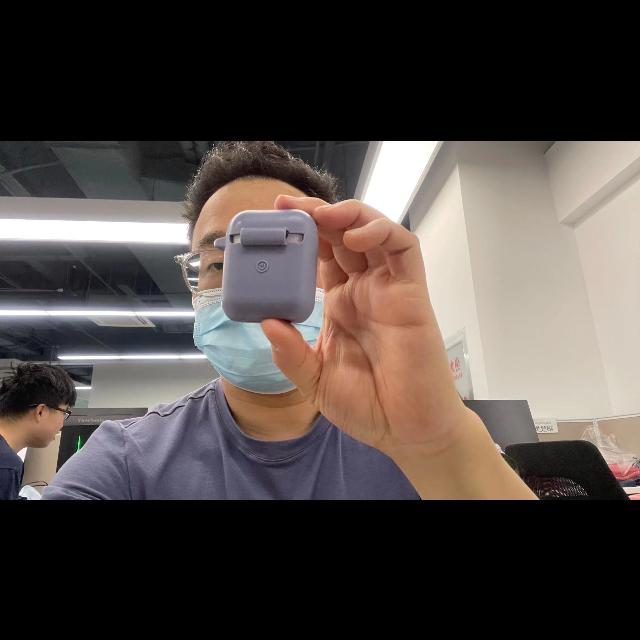airpods: (211, 209, 317, 322)
